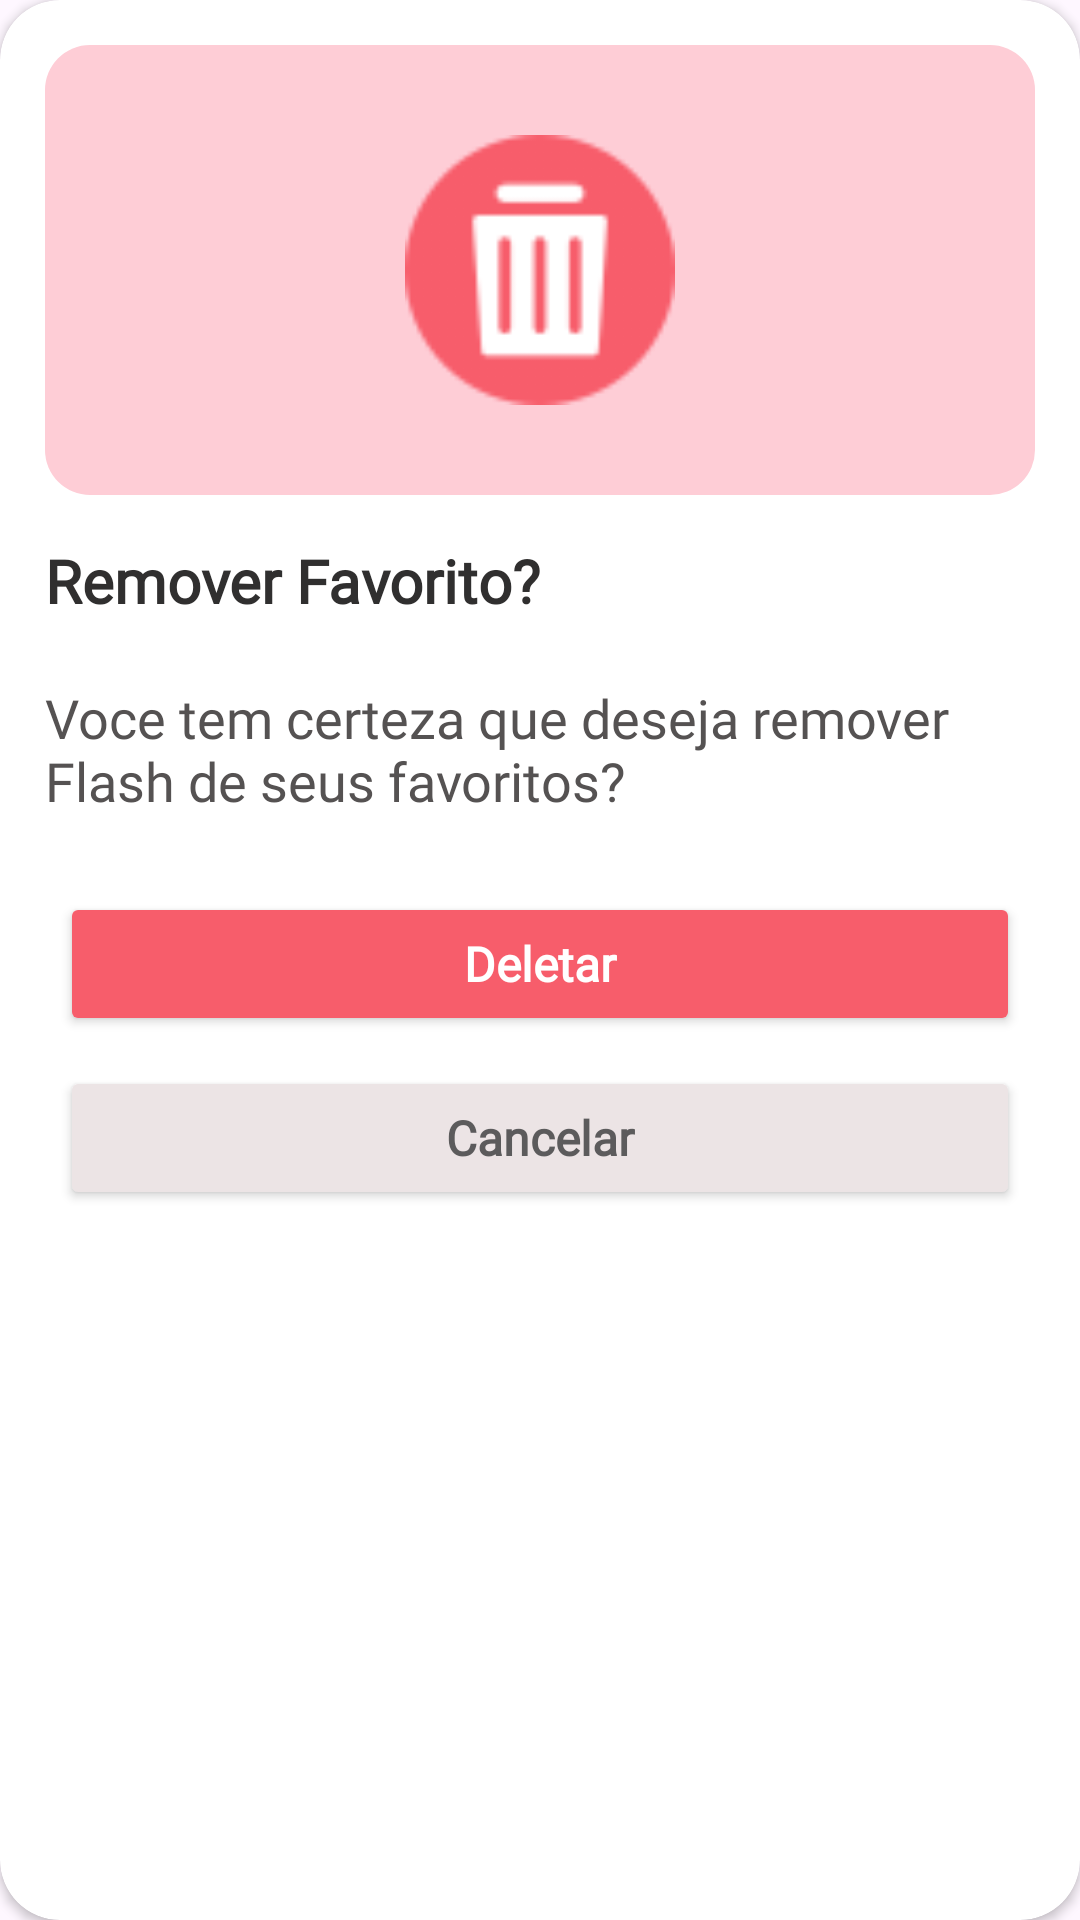

Screen size 1080w x 1920h. Icon name, then its center in pixels as (x=x, y=y):
deletet: (x=540, y=270)
